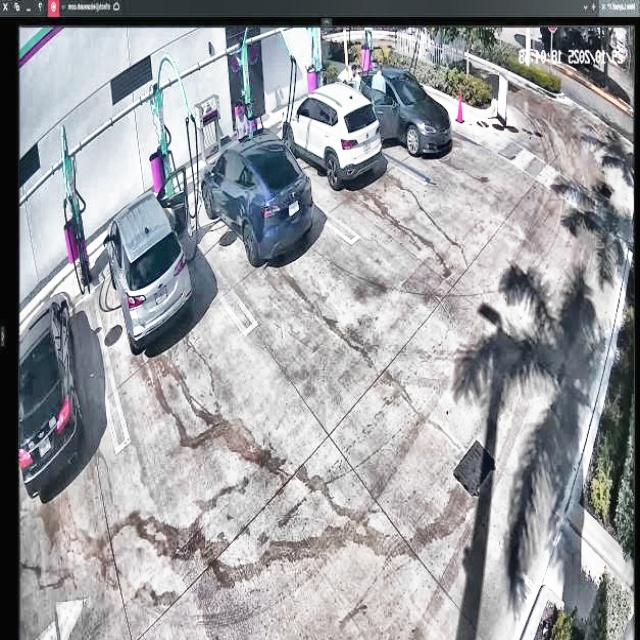Car: (113, 163, 194, 348), (201, 126, 311, 261), (281, 79, 385, 189), (352, 67, 450, 159)
